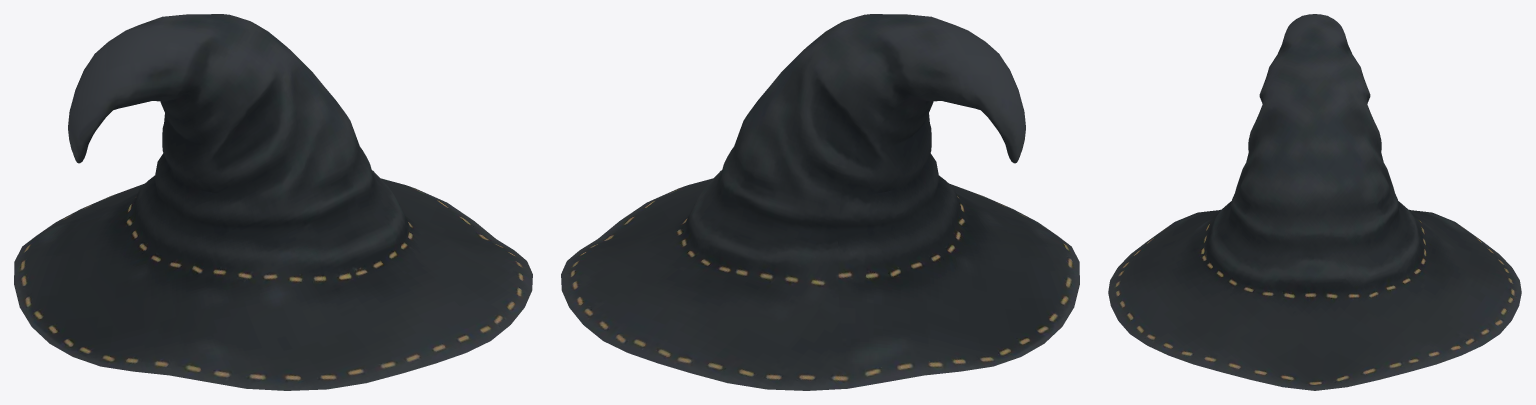
File: hat-transformed.glb
The picture shows the model from 3 angles, left to right: view 1: azimuth 30°, elevation 25°; view 2: azimuth 150°, elevation 25°; view 3: azimuth 270°, elevation 25°; orthographic projection. The views are drawn at different scales.
Visible parts, largest first — view 1: defaultMaterial; view 2: defaultMaterial; view 3: defaultMaterial.
Boxes of the visible parts, x1=… form: defaultMaterial: x1=14, y1=14, x2=532, y2=390; defaultMaterial: x1=561, y1=14, x2=1079, y2=390; defaultMaterial: x1=1108, y1=14, x2=1521, y2=390.
Bounding box in the file's own units: 13.3 × 8.41 × 13.31.
1 material, 1 textured.
